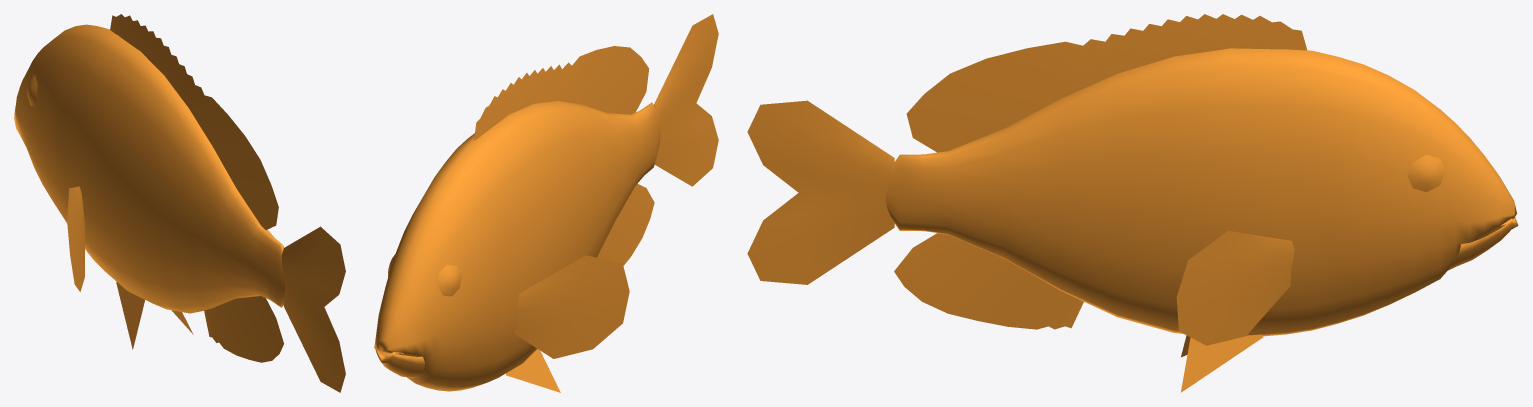
File: garibaldi_lo.glb
3 renders of one model, left to right at view 1: azimuth 30°, elevation 25°; view 2: azimuth 150°, elevation 25°; view 3: azimuth 270°, elevation 25°, orthographic. The views are drawn at different scales.
Visible parts, largest first — view 1: garibaldi_lo; view 2: garibaldi_lo; view 3: garibaldi_lo.
Boxes of the visible parts, x1=… form: garibaldi_lo: x1=14, y1=14, x2=345, y2=392; garibaldi_lo: x1=374, y1=14, x2=718, y2=392; garibaldi_lo: x1=747, y1=14, x2=1518, y2=392.
Size of the model in its own units: 0.1017 by 0.1556 by 0.301.
